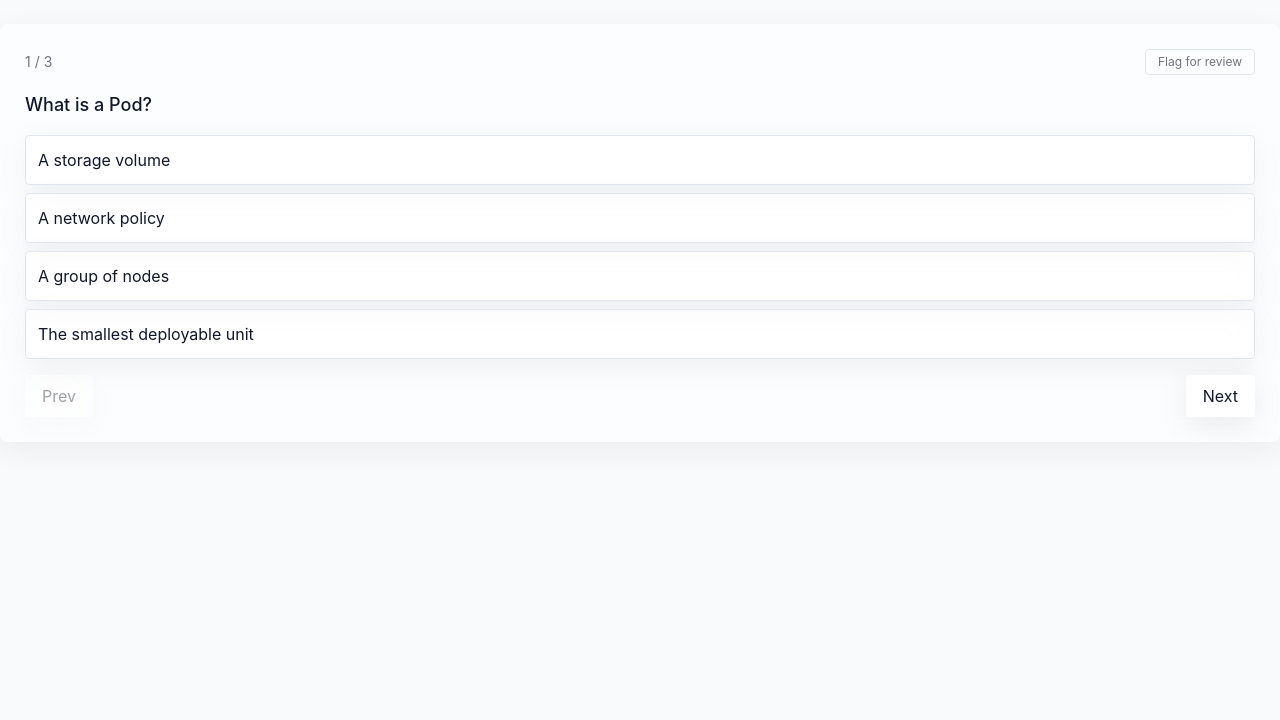
Test case: QuizBlock Phase 3 scaffolds › quiz_submit_disabled_until_all_answered — Submit disabled with unanswered questions
The image size is (1280, 720).
# Answer only Q1 and navigate to Q3 without answering Q2
Click the button "The smallest deployable unit".
click(146, 334)  # box x1=25 y1=309 x2=1255 y2=359
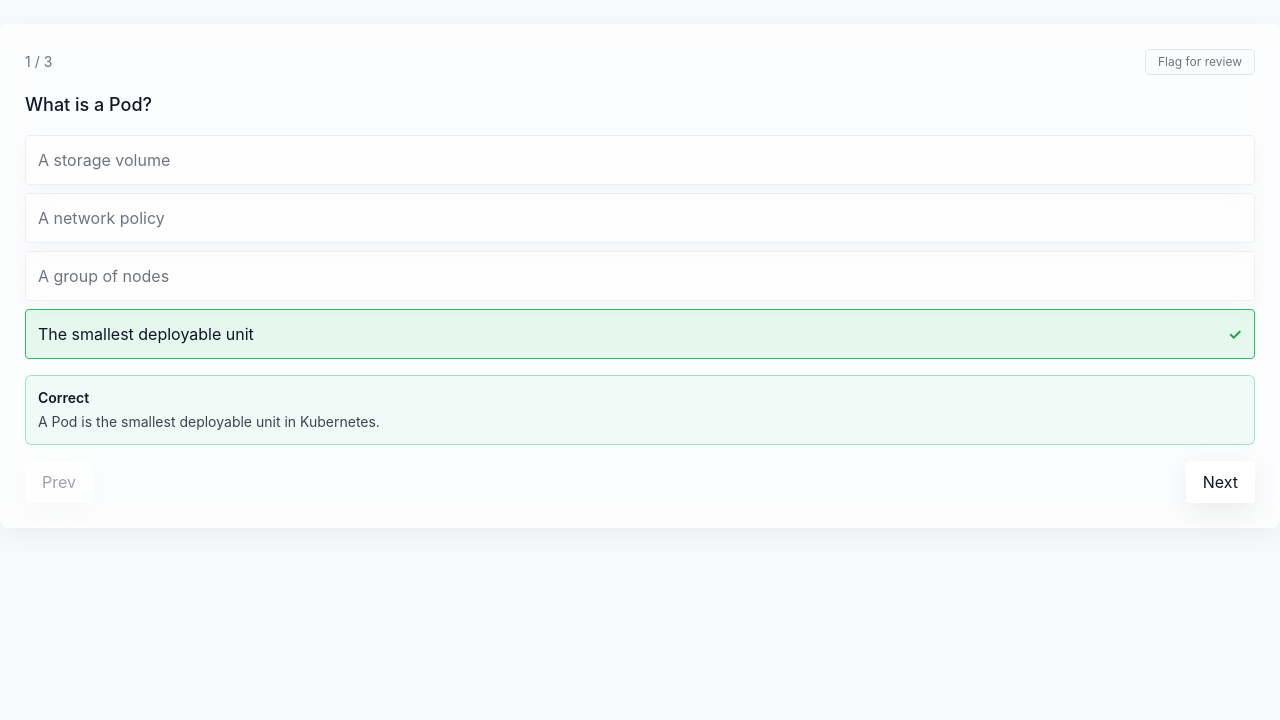
Click the button "Next".
click(1220, 482)  # box x1=1186 y1=461 x2=1255 y2=503
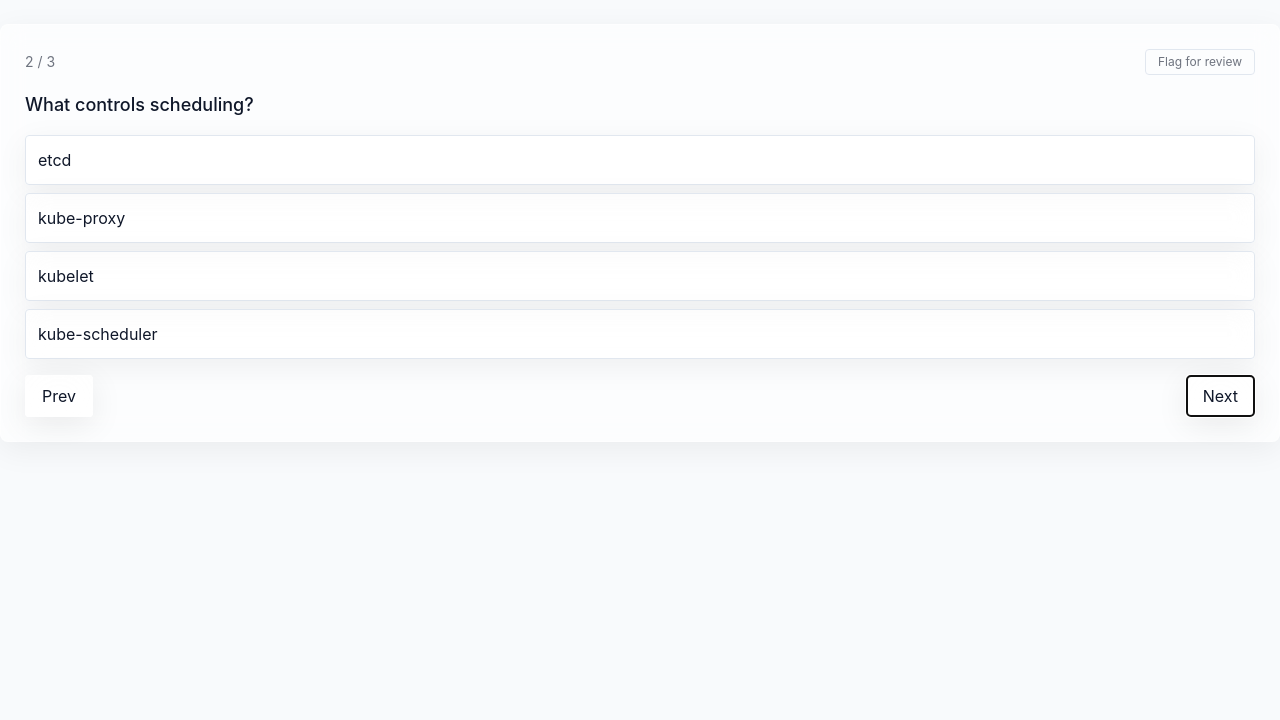
# Skip Q2 - navigate to Q3
Click the button "Next".
click(1220, 396)  # box x1=1186 y1=375 x2=1255 y2=417
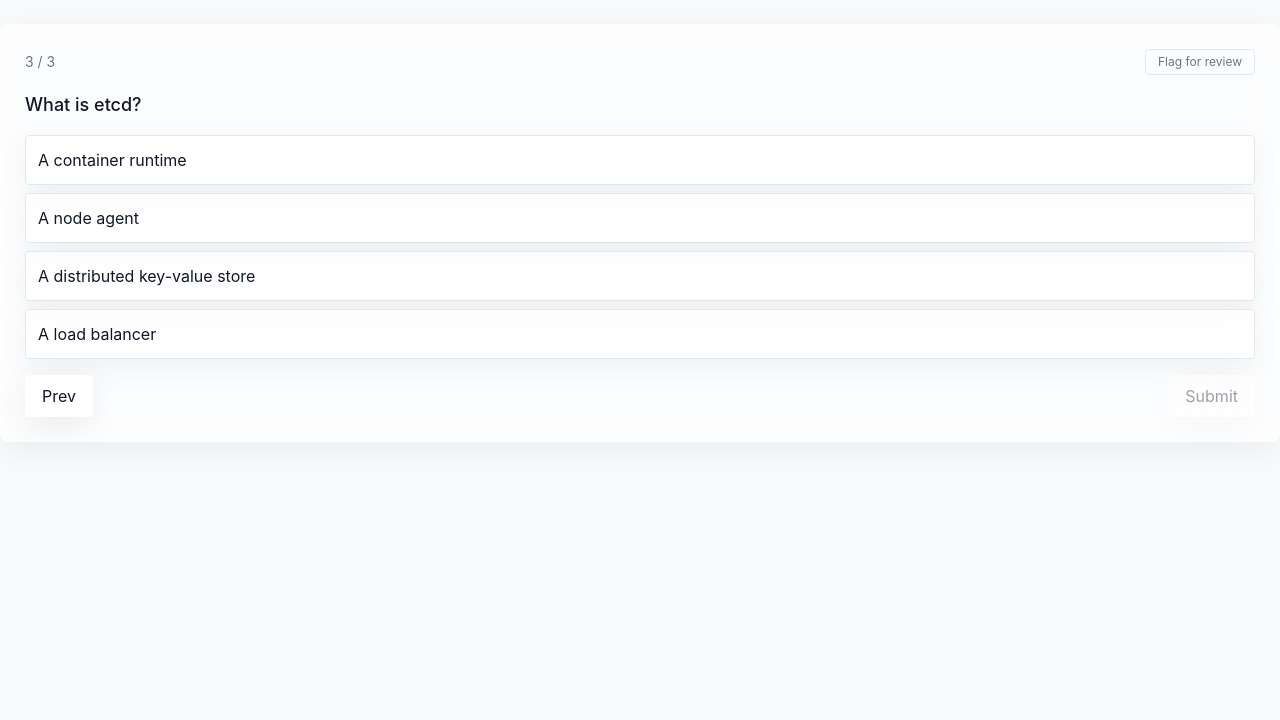
Expected: the button "Submit" is disabled, x1=1168 y1=375 x2=1255 y2=417
